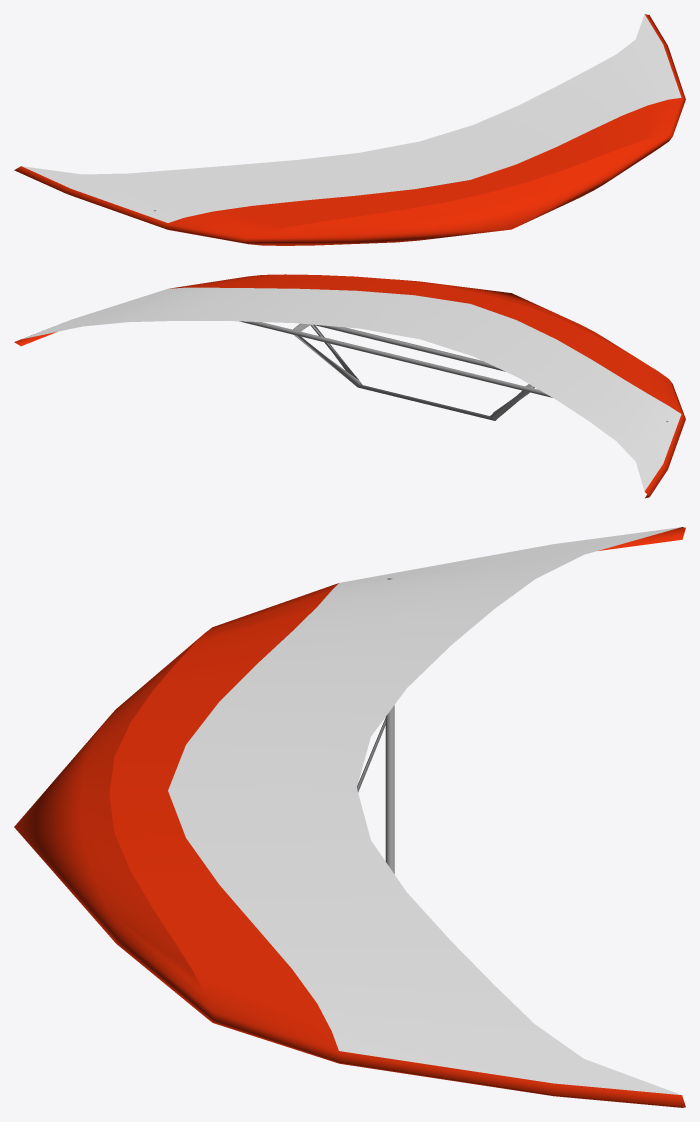
File: glider1.glb
The picture shows the model from 3 angles, top to bottom: view 1: azimuth 30°, elevation 25°; view 2: azimuth 150°, elevation 25°; view 3: azimuth 270°, elevation 25°; orthographic projection. The views are drawn at different scales.
Parts seen in each view (by area): view 1: Cone.001, Cone; view 2: Cone.001, Cone, Cube, Cylinder.001, Cylinder; view 3: Cone.001, Cone, Cylinder.001.
Boxes of the visible parts, <box> form: Cone.001: <box>22,14,681,222</box>; Cone: <box>14,14,685,245</box>; Cone.001: <box>22,287,681,491</box>; Cone: <box>14,274,685,498</box>; Cube: <box>293,323,534,420</box>; Cylinder.001: <box>239,321,668,422</box>; Cylinder: <box>313,324,505,371</box>; Cone.001: <box>168,527,680,1094</box>; Cone: <box>14,527,685,1107</box>; Cylinder.001: <box>385,578,394,873</box>.
Size of the model in its own units: 7.14 by 0.7491 by 3.5.
